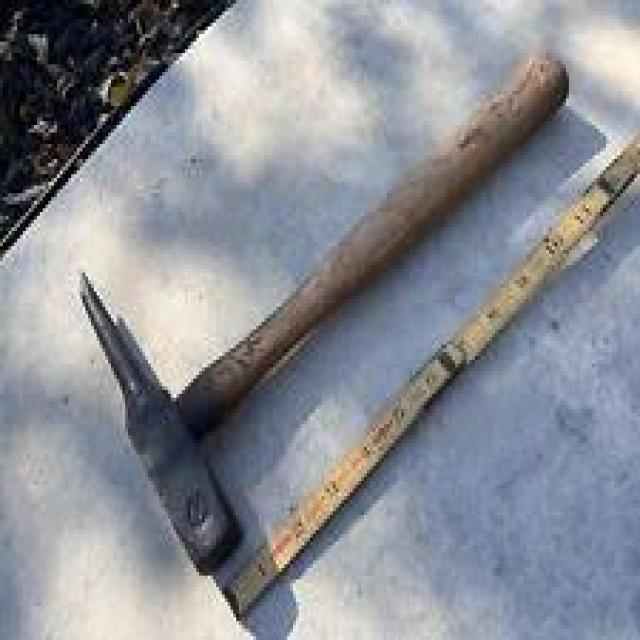hammer: (68, 47, 583, 608)
